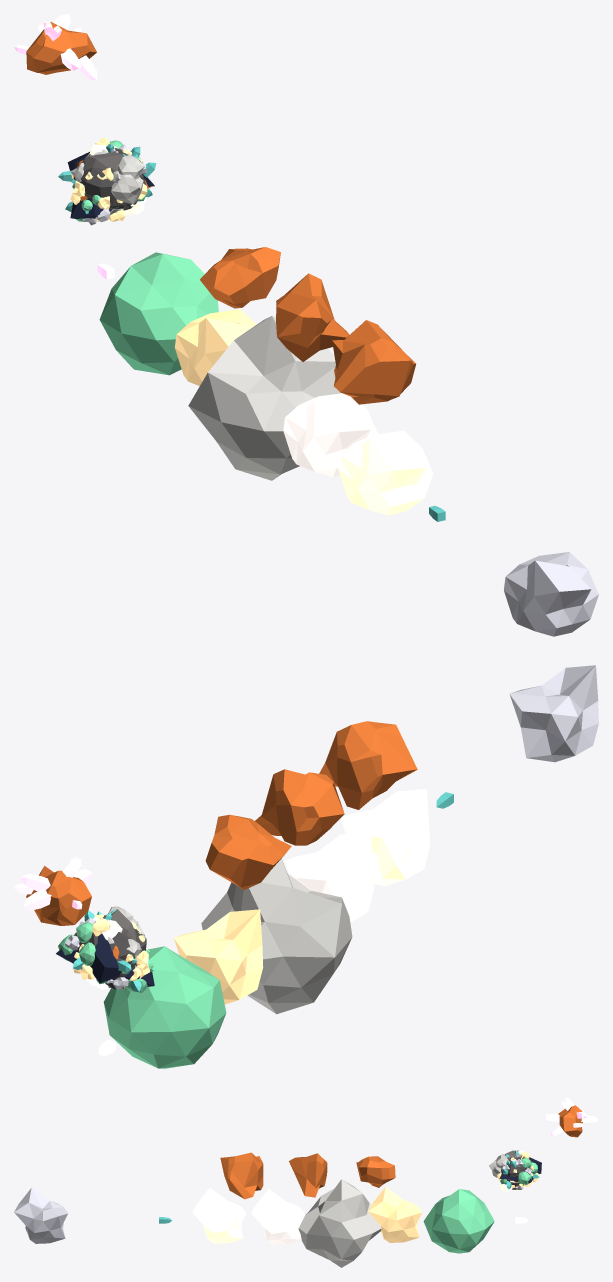
Rendered from Rock1.fbx.
The picture shows the model from 3 angles, top to bottom: view 1: azimuth 30°, elevation 25°; view 2: azimuth 150°, elevation 25°; view 3: azimuth 270°, elevation 25°; orthographic projection. The views are drawn at different scales.
Visible parts, largest first — view 1: Icosphere.004, Icosphere.001, Icosphere.005, Icosphere.015, Icosphere.009, Icosphere.017, Icosphere.016, Icosphere.014, Icosphere.003, Icosphere, Icosphere.006; view 2: Icosphere.004, Icosphere.001, Icosphere.015, Icosphere.017, Icosphere.005, Icosphere.003, Icosphere.016, Icosphere.009, Icosphere.014, Icosphere, Icosphere.008, Icosphere.006; view 3: Icosphere.004, Icosphere.001, Icosphere.015, Icosphere.005, Icosphere.003, Icosphere.009, Icosphere.017, Icosphere.016, Icosphere.014, Icosphere.
Boxes of the visible parts, x1,y1,x2,y2 form: Icosphere.004: [188, 316, 341, 480]; Icosphere.001: [99, 252, 218, 375]; Icosphere.005: [338, 430, 433, 515]; Icosphere.015: [504, 552, 598, 636]; Icosphere.009: [283, 393, 377, 477]; Icosphere.017: [332, 320, 415, 404]; Icosphere.016: [276, 273, 349, 361]; Icosphere.014: [200, 247, 280, 308]; Icosphere.003: [174, 309, 256, 386]; Icosphere: [26, 22, 96, 74]; Icosphere.006: [73, 148, 143, 210]; Icosphere.004: [201, 859, 352, 1014]; Icosphere.001: [103, 946, 226, 1068]; Icosphere.015: [509, 665, 598, 762]; Icosphere.017: [319, 721, 417, 809]; Icosphere.005: [340, 789, 429, 885]; Icosphere.003: [174, 909, 263, 1004]; Icosphere.016: [255, 769, 344, 845]; Icosphere.009: [284, 832, 373, 922]; Icosphere.014: [205, 814, 291, 890]; Icosphere: [26, 865, 91, 925]; Icosphere.008: [56, 933, 154, 986]; Icosphere.006: [78, 915, 146, 988]; Icosphere.004: [298, 1179, 381, 1267]; Icosphere.001: [423, 1189, 494, 1253]; Icosphere.015: [14, 1187, 67, 1243]; Icosphere.005: [192, 1188, 246, 1243]; Icosphere.003: [368, 1186, 422, 1242]; Icosphere.009: [251, 1189, 305, 1244]; Icosphere.017: [220, 1152, 263, 1199]; Icosphere.016: [289, 1153, 327, 1197]; Icosphere.014: [356, 1156, 395, 1187]; Icosphere: [558, 1105, 582, 1137].
Bounding box in the file's own units: 277 × 618 × 1970.
